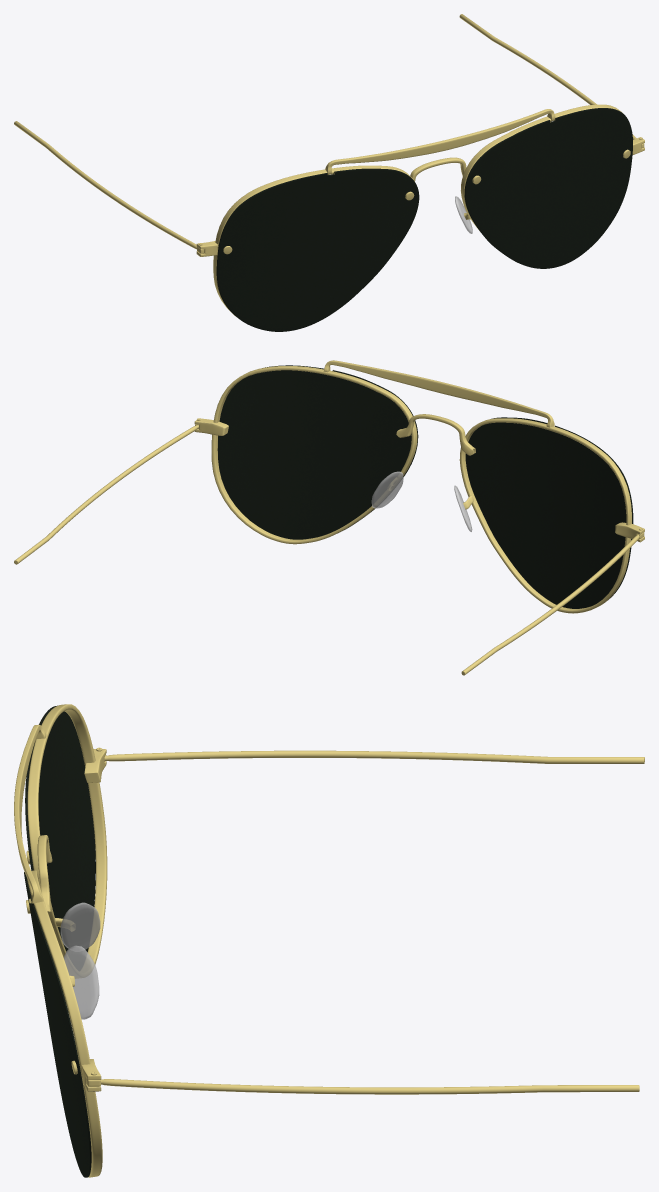
The model's file is BLAZE_app.glb.
The picture shows the model from 3 angles, top to bottom: view 1: azimuth 30°, elevation 25°; view 2: azimuth 150°, elevation 25°; view 3: azimuth 270°, elevation 25°; orthographic projection. The views are drawn at different scales.
Visible parts, largest first — view 1: Lentes, armacao; view 2: Lentes, armacao, Pontes; view 3: armacao, Lentes, Pontes.
Part boxes in pixels (left/top/right/bottom): Lentes: left=216, top=108, right=632, bottom=331; armacao: left=14, top=14, right=644, bottom=316; Lentes: left=217, top=365, right=633, bottom=608; armacao: left=14, top=360, right=644, bottom=675; Pontes: left=371, top=471, right=472, bottom=531; armacao: left=14, top=704, right=644, bottom=1177; Lentes: left=24, top=705, right=95, bottom=1177; Pontes: left=60, top=902, right=100, bottom=1019.
Size of the model in its own units: 0.1531 by 0.0556 by 0.1203.
3 materials, 3 textured.
